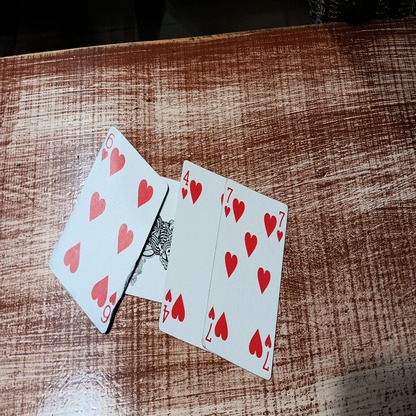4h: (179, 165, 190, 201), (162, 284, 170, 326)
6h: (100, 290, 117, 328), (98, 128, 114, 159)
7h: (261, 331, 271, 374), (273, 206, 284, 244), (206, 303, 215, 345), (225, 186, 232, 217)
